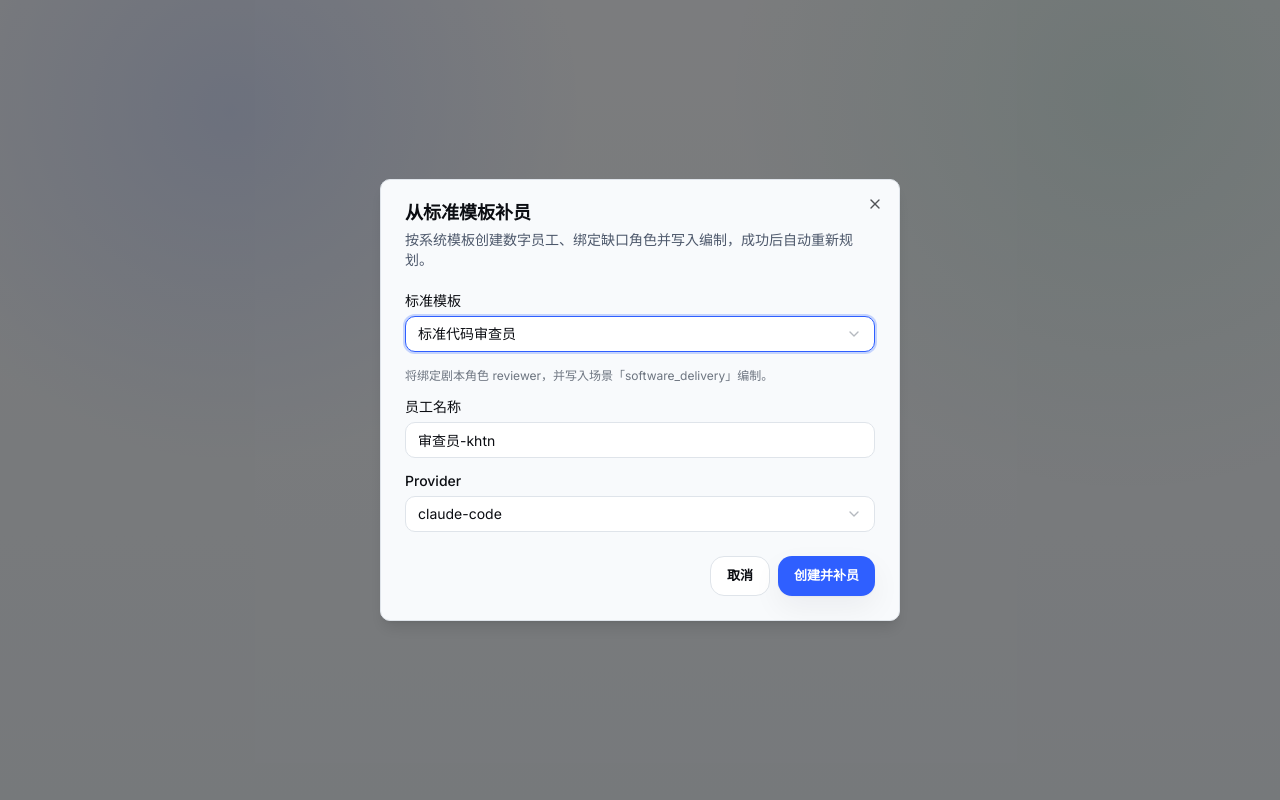
Test: StaffGapDialog › blocks restaffing with an explicit error when the project has no team
Click the button "创建并补员". click: (826, 576)
box: x1=778 y1=556 x2=875 y2=596
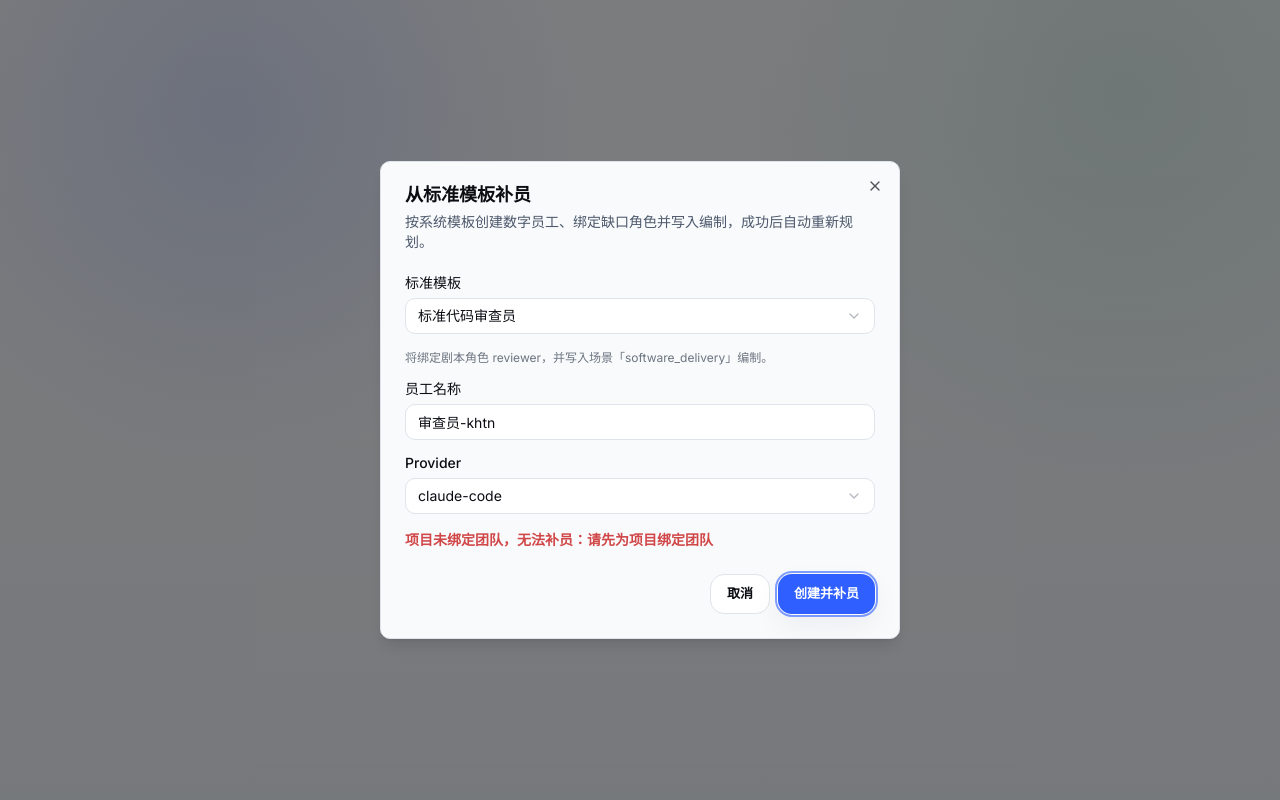
Expected: the text "项目未绑定团队，无法补员：请先为项目绑定团队" is shown, x1=405 y1=531 x2=713 y2=548
